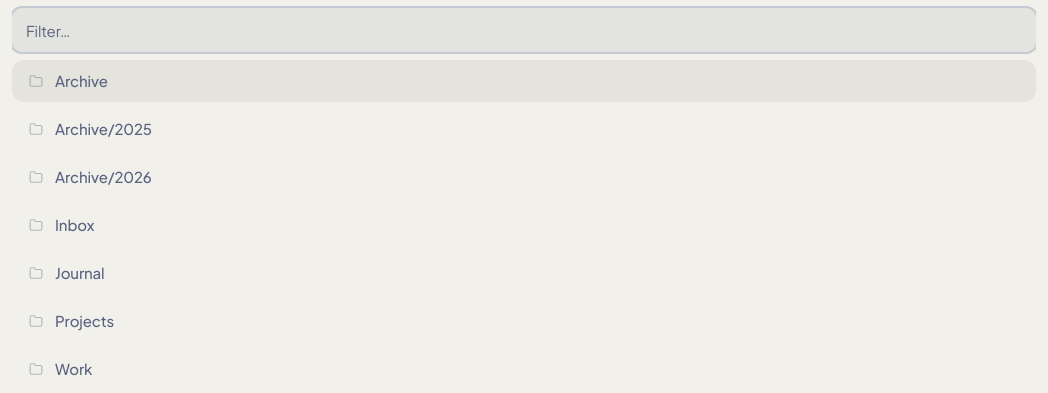
it: SelectOptionList › filters a long list as you type and picks with the arrow keys and Return
Type "arch" into the field labelled "Filter".
click(524, 30); type("arch")  # box [12,8,1036,52]
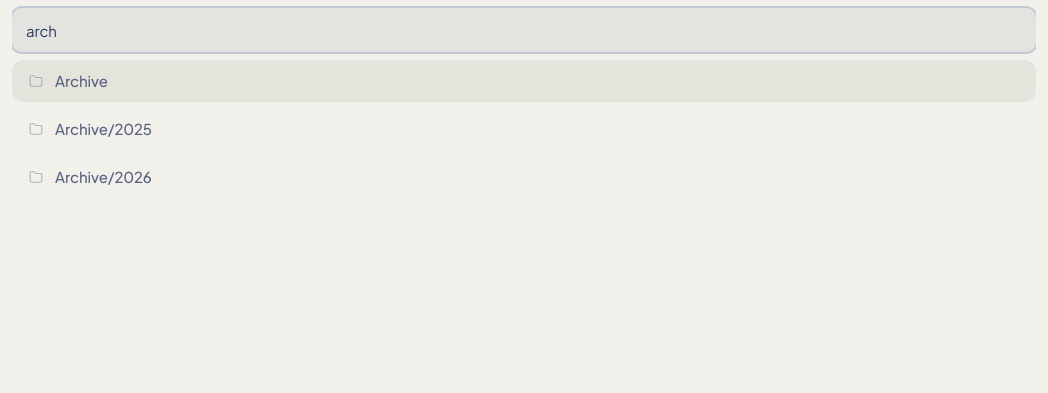
Expected: the options read "Archive", "Archive/2025", "Archive/2026", in this order, [12,60,1036,102]; [12,108,1036,150]; [12,156,1036,198]
Press ArrowDown in the field named "Filter", box [12,8,1036,52]
Press Enter in the field named "Filter", box [12,8,1036,52]
Replace the text in the field named "Filter" with "nothing" at (524, 30), box [12,8,1036,52]
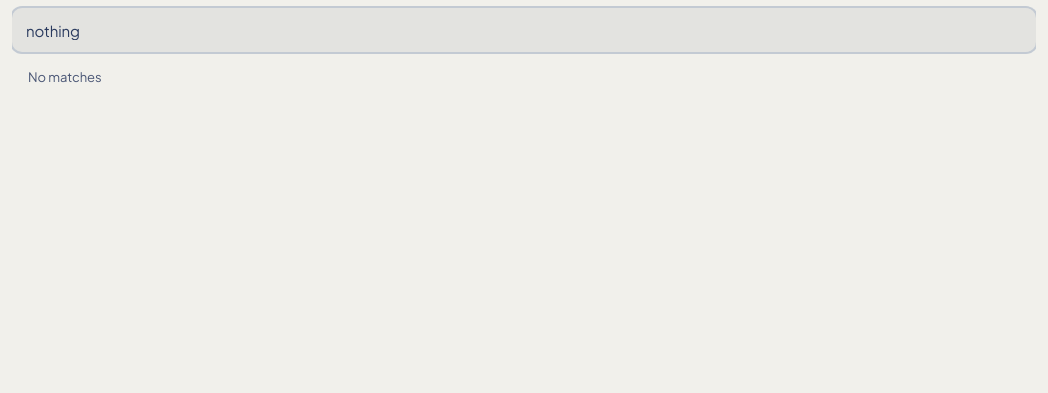
Expected: the text "No matches" is shown, [28,69,102,85]
